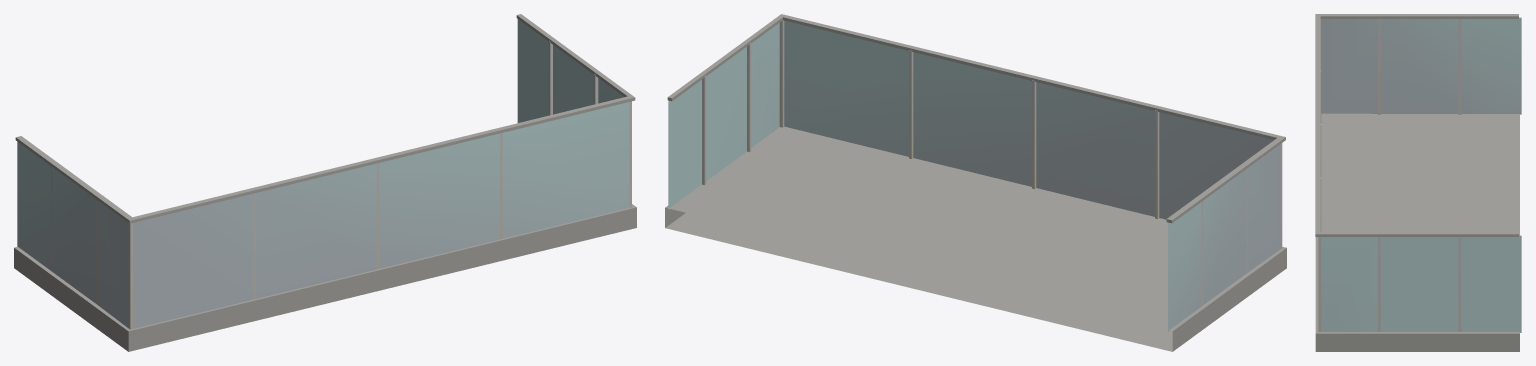
File: The balcony is open.fbx
3 renders of one model, left to right at view 1: azimuth 30°, elevation 25°; view 2: azimuth 150°, elevation 25°; view 3: azimuth 270°, elevation 25°, orthographic. The views are drawn at different scales.
Parts seen in each view (by area): view 1: Cube.297; view 2: Cube.297; view 3: Cube.297.
Part boxes in pixels (bbox=[...]): Cube.297: bbox=[14, 14, 636, 351]; Cube.297: bbox=[665, 14, 1286, 351]; Cube.297: bbox=[1315, 14, 1521, 351].
Size of the model in its own units: 1191 by 294 by 468.
